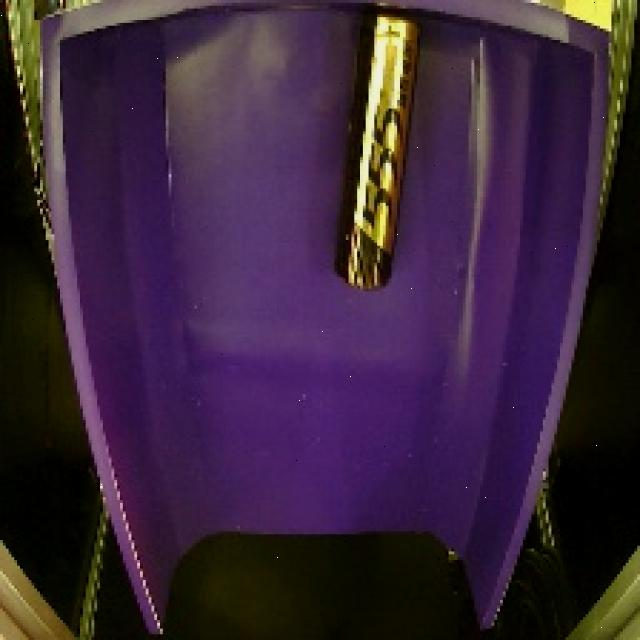battery: (324, 0, 438, 300)
